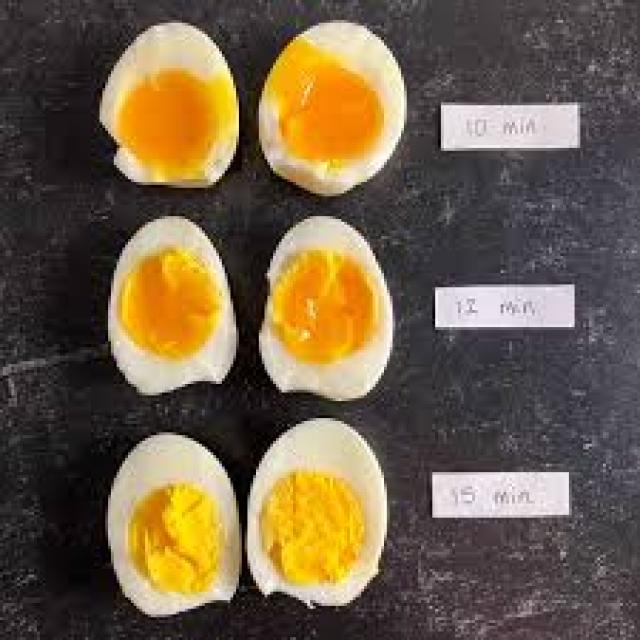boiled egg: (85, 0, 412, 626)
